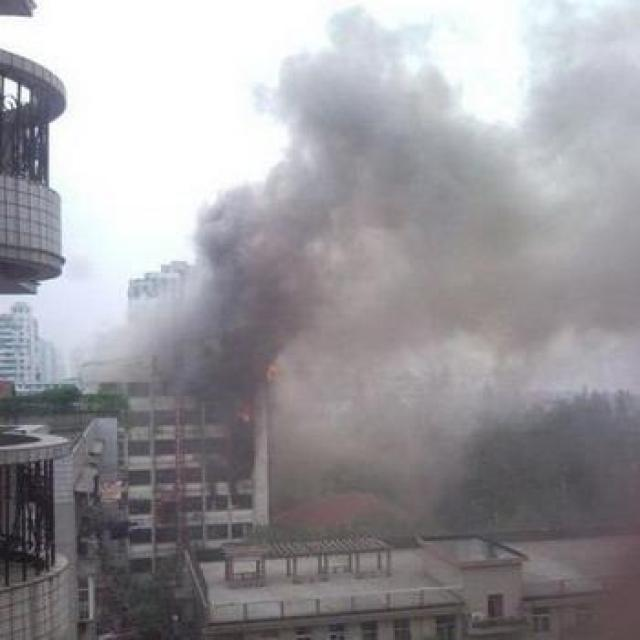Smoke: (78, 2, 640, 536)
